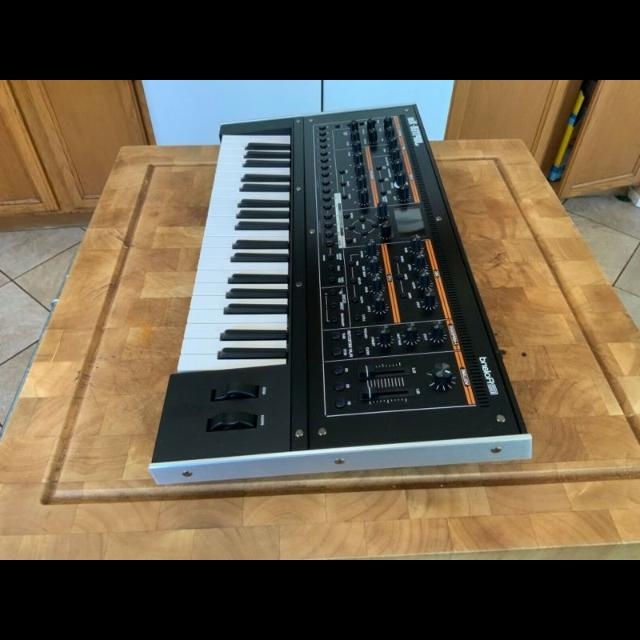Electronic-Keyboard: (139, 102, 541, 484)
